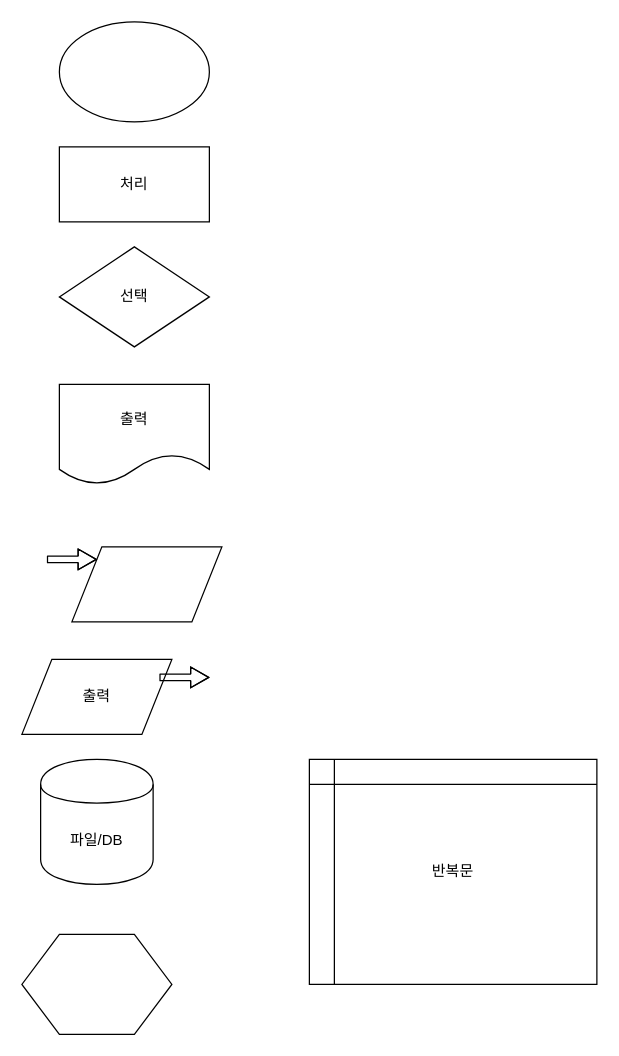
Image size: 619x1056. Some labels were removed from this diagram. Each missing label, with the centre of its shape:
"(변수)준비" goes at point 96,983.
"시작/끝" goes at point 133,71.
"입력" goes at point 146,584.
